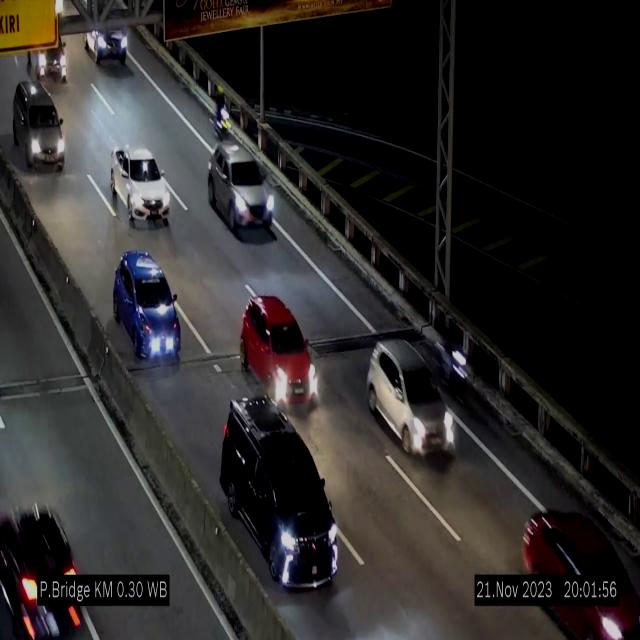Car: (220, 396, 338, 585), (518, 497, 640, 640), (0, 490, 72, 640), (367, 334, 455, 456), (241, 296, 317, 409), (113, 250, 181, 361), (208, 140, 274, 238), (9, 75, 69, 173), (111, 146, 170, 226), (82, 6, 136, 70), (24, 31, 74, 83)
Motorcycle: (451, 327, 468, 401), (214, 89, 234, 140)
